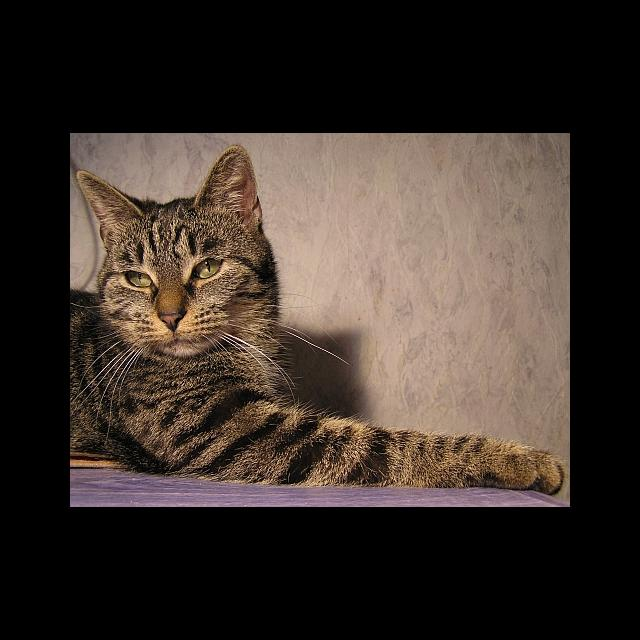animals: (78, 147, 259, 325)
